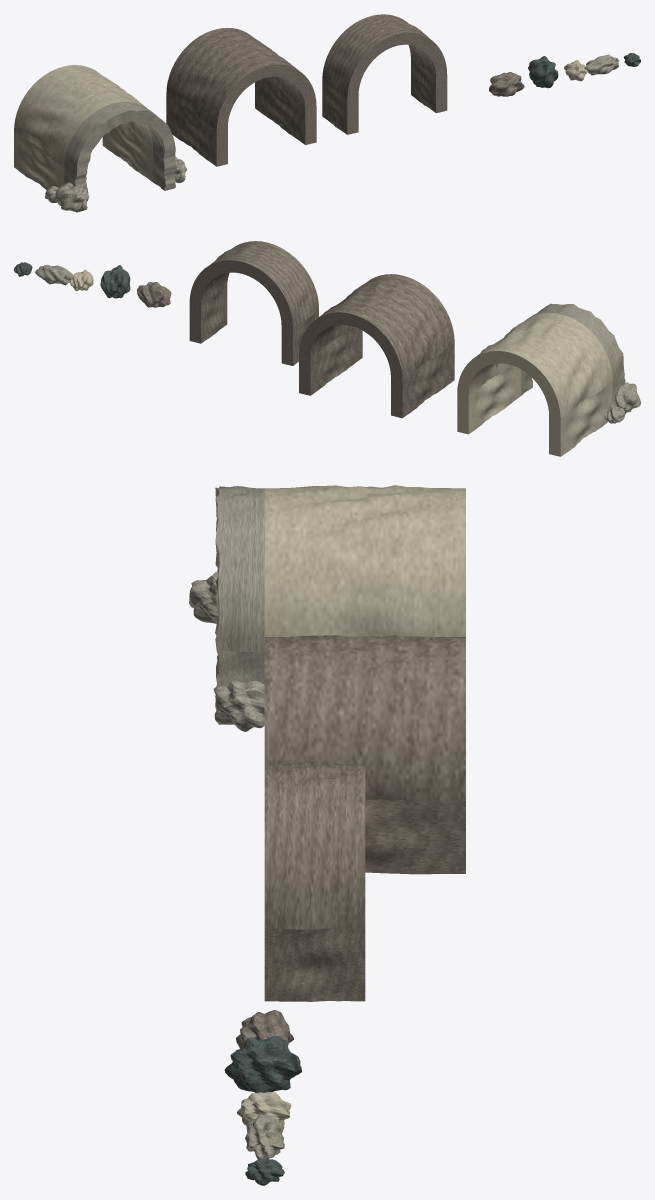
The model's file is PROJECT_Z_Cave_Entrance_Rock_Kit.glb.
The picture shows the model from 3 angles, top to bottom: view 1: azimuth 30°, elevation 25°; view 2: azimuth 150°, elevation 25°; view 3: azimuth 270°, elevation 25°; orthographic projection. The views are drawn at different scales.
Visible parts, largest first — view 1: ASSEMBLY_Tunnel_B_Dry_4m_Roof, ASSEMBLY_Tunnel_A_Wet_4m_Roof, ASSEMBLY_Tunnel_C_Dry_2m_Roof, Portal_A_Roof_Weathered_Limestone, ASSEMBLY_Tunnel_B_Dry_4m_LeftWall, ASSEMBLY_Tunnel_B_Dry_4m_RightWall, ASSEMBLY_Tunnel_A_Wet_4m_LeftWall, ASSEMBLY_Tunnel_A_Wet_4m_RightWall, ASSEMBLY_Tunnel_C_Dry_2m_RightWall, ASSEMBLY_Tunnel_C_Dry_2m_LeftWall, Portal_A_RightWall_Weathered_Limestone, MouthBoulder_01_Closed (+5 smaller); view 2: ASSEMBLY_Tunnel_B_Dry_4m_Roof, ASSEMBLY_Tunnel_A_Wet_4m_Roof, ASSEMBLY_Tunnel_C_Dry_2m_Roof, ASSEMBLY_Tunnel_B_Dry_4m_LeftWall, ASSEMBLY_Tunnel_A_Wet_4m_RightWall, ASSEMBLY_Tunnel_B_Dry_4m_RightWall, ASSEMBLY_Tunnel_A_Wet_4m_LeftWall, Portal_A_Roof_Weathered_Limestone, ASSEMBLY_Tunnel_C_Dry_2m_RightWall, ASSEMBLY_Tunnel_C_Dry_2m_LeftWall, LooseBoulder_02_FullRock, LooseBoulder_01_FullRock (+3 smaller); view 3: ASSEMBLY_Tunnel_A_Wet_4m_Roof, ASSEMBLY_Tunnel_B_Dry_4m_Roof, ASSEMBLY_Tunnel_C_Dry_2m_Roof, Portal_A_Roof_Weathered_Limestone, ASSEMBLY_Tunnel_C_Dry_2m_RightWall, ASSEMBLY_Tunnel_B_Dry_4m_RightWall, LooseBoulder_02_FullRock, MouthBoulder_02_Closed, Portal_A_RightWall_Weathered_Limestone, LooseBoulder_04_FullRock, LooseBoulder_01_FullRock, LooseBoulder_03_FullRock (+1 smaller).
Boxes of the visible parts, x1,y1,x2,y2 form: ASSEMBLY_Tunnel_B_Dry_4m_Roof: [166, 27, 316, 130]; ASSEMBLY_Tunnel_A_Wet_4m_Roof: [14, 65, 152, 166]; ASSEMBLY_Tunnel_C_Dry_2m_Roof: [322, 14, 446, 98]; Portal_A_Roof_Weathered_Limestone: [64, 102, 175, 175]; ASSEMBLY_Tunnel_B_Dry_4m_LeftWall: [166, 94, 227, 166]; ASSEMBLY_Tunnel_B_Dry_4m_RightWall: [255, 78, 316, 144]; ASSEMBLY_Tunnel_A_Wet_4m_LeftWall: [14, 131, 64, 190]; ASSEMBLY_Tunnel_A_Wet_4m_RightWall: [102, 124, 152, 181]; ASSEMBLY_Tunnel_C_Dry_2m_RightWall: [411, 59, 447, 113]; ASSEMBLY_Tunnel_C_Dry_2m_LeftWall: [322, 80, 358, 134]; Portal_A_RightWall_Weathered_Limestone: [153, 146, 176, 190]; MouthBoulder_01_Closed: [55, 182, 89, 211]; ASSEMBLY_Tunnel_B_Dry_4m_Roof: [299, 274, 454, 380]; ASSEMBLY_Tunnel_A_Wet_4m_Roof: [457, 312, 612, 418]; ASSEMBLY_Tunnel_C_Dry_2m_Roof: [189, 241, 318, 328]; ASSEMBLY_Tunnel_B_Dry_4m_LeftWall: [391, 342, 454, 418]; ASSEMBLY_Tunnel_A_Wet_4m_RightWall: [457, 365, 520, 434]; ASSEMBLY_Tunnel_B_Dry_4m_RightWall: [299, 327, 362, 395]; ASSEMBLY_Tunnel_A_Wet_4m_LeftWall: [549, 381, 612, 456]; Portal_A_Roof_Weathered_Limestone: [529, 303, 624, 380]; ASSEMBLY_Tunnel_C_Dry_2m_RightWall: [189, 287, 227, 343]; ASSEMBLY_Tunnel_C_Dry_2m_LeftWall: [281, 309, 318, 365]; LooseBoulder_02_FullRock: [100, 265, 130, 298]; LooseBoulder_01_FullRock: [137, 282, 171, 307]; ASSEMBLY_Tunnel_A_Wet_4m_Roof: [264, 485, 465, 636]; ASSEMBLY_Tunnel_B_Dry_4m_Roof: [264, 635, 465, 800]; ASSEMBLY_Tunnel_C_Dry_2m_Roof: [264, 761, 365, 929]; Portal_A_Roof_Weathered_Limestone: [215, 486, 264, 651]; ASSEMBLY_Tunnel_C_Dry_2m_RightWall: [264, 928, 365, 1001]; ASSEMBLY_Tunnel_B_Dry_4m_RightWall: [365, 799, 465, 874]; LooseBoulder_02_FullRock: [224, 1036, 301, 1092]; MouthBoulder_02_Closed: [213, 680, 264, 731]; Portal_A_RightWall_Weathered_Limestone: [216, 651, 264, 724]; LooseBoulder_04_FullRock: [245, 1114, 284, 1159]; LooseBoulder_01_FullRock: [236, 1010, 293, 1048]; LooseBoulder_03_FullRock: [237, 1092, 291, 1125].
Size of the model in its own units: 27.13 by 3.95 by 5.5.
Materials: 1 (1 with a texture image).
